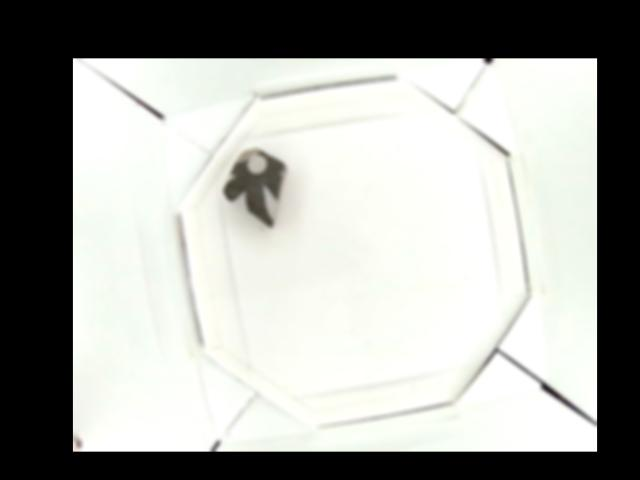China: (224, 149, 285, 227)
